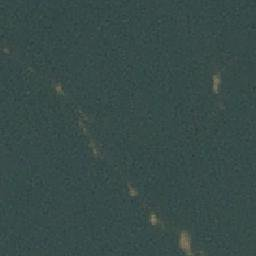debris: (78, 110, 100, 156), (178, 229, 194, 252), (211, 74, 222, 94), (150, 211, 160, 230), (125, 182, 136, 197), (55, 84, 63, 96)
